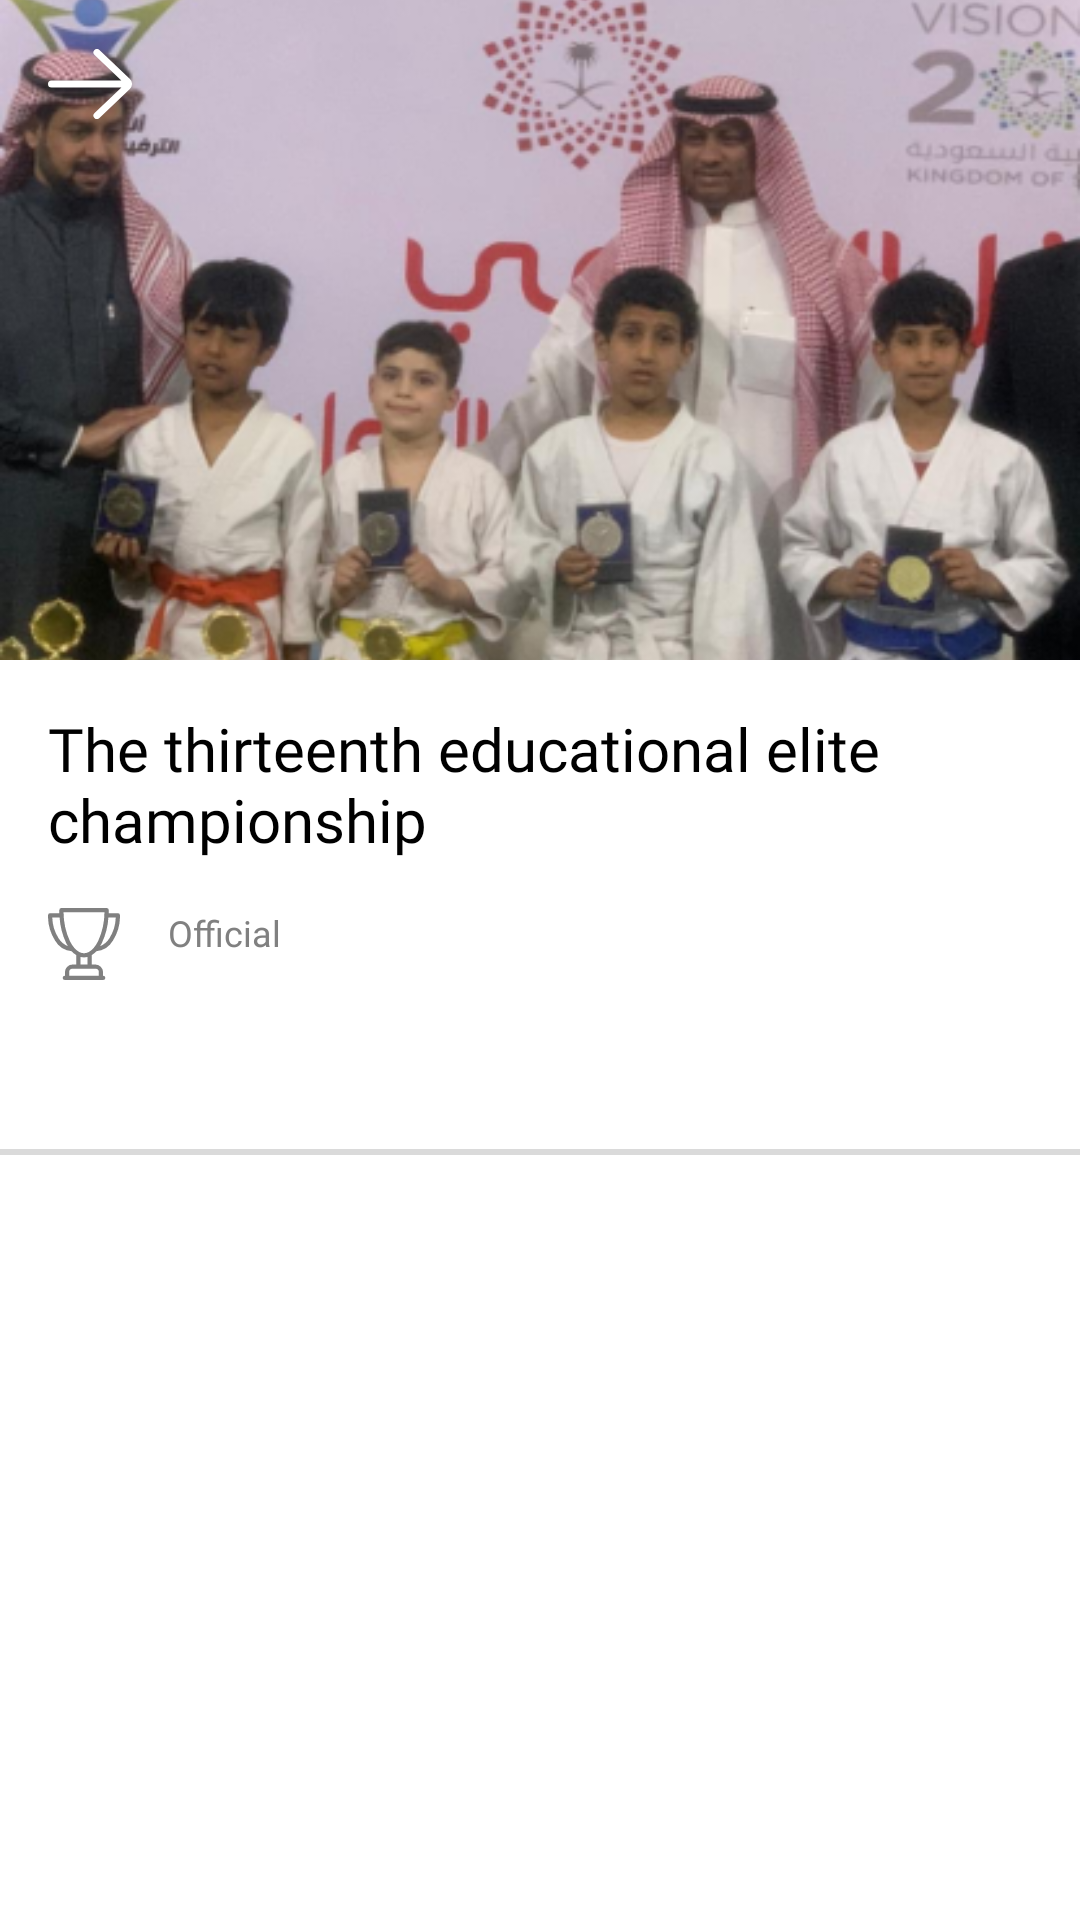

Named icons in this screenshot (1080 × 1920) and their bounding boxes, (x1, y1, x2, y2):
win: (48, 908, 120, 980)
